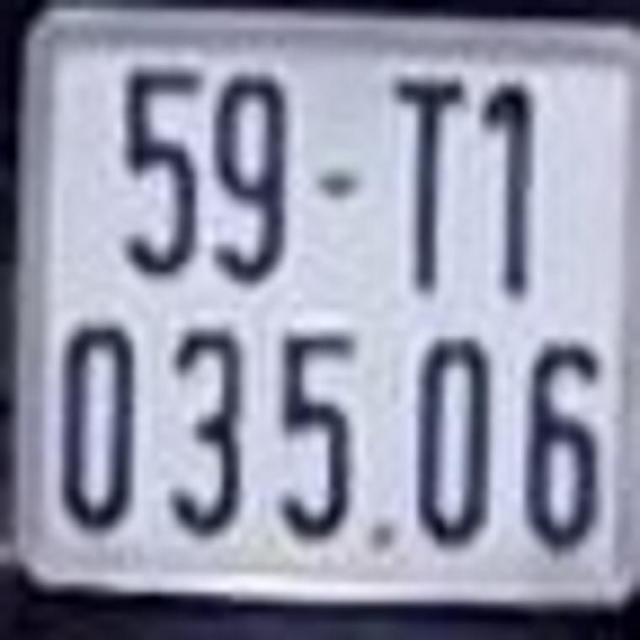0: (56, 324, 146, 534), (420, 339, 494, 544)
1: (480, 86, 541, 300)
3: (171, 327, 245, 532)
5: (121, 61, 202, 278), (276, 329, 353, 544)
6: (524, 343, 609, 548)
9: (213, 68, 289, 286)
T: (392, 74, 469, 293)
